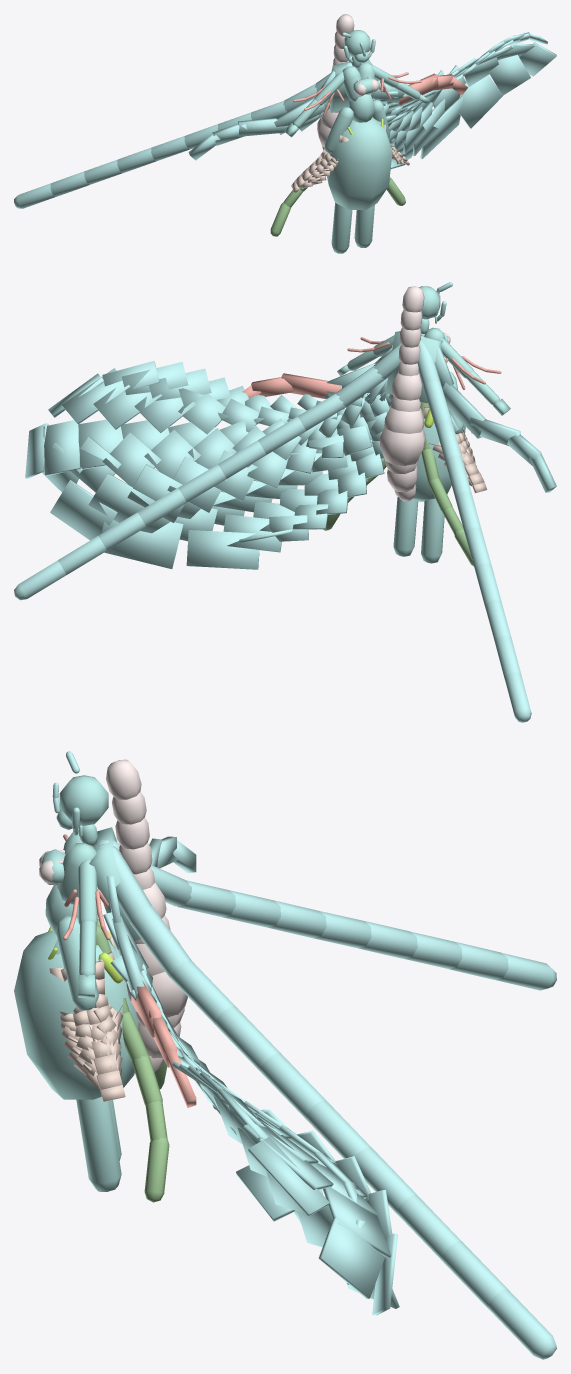
Rendered from Kiana_RigidBodyWorld.fbx.
3 renders of one model, top to bottom at view 1: azimuth 30°, elevation 25°; view 2: azimuth 150°, elevation 25°; view 3: azimuth 270°, elevation 25°, orthographic. The views are drawn at different scales.
Parts seen in each view (by area): view 1: 04N_下半身5, 04I_披风_10_3, 04J_披风_10_4, 04H_披风_10_2, 00E_右ひざ, 00G_左ひざ, 04K_披风_10_5, 017_Bip242, 023_Bip5, 049_披风_9_2, 04X_Bip255, 000_上半身 (+22 smaller); view 2: 04G_披风_10_1, 04H_披风_10_2, 04I_披风_10_3, 04C_披风_9_5, 04A_披风_9_3, 043_披风_8_4, 00P_辫子_8_1, 044_披风_8_5, 048_披风_9_1, 045_披风_8_6, 03V_披风_7_4, 00E_右ひざ (+57 smaller); view 3: 04N_下半身5, 00G_左ひざ, 04K_披风_10_5, 057_Bip266, 04L_披风_10_6, 04Z_Bip258, 056_Bip265, 052_Bip261, 051_Bip260, 055_Bip264, 00A_頭_1, 050_Bip259 (+32 smaller).
Boxes of the visible parts, x1,y1,x2,y2 form: 04N_下半身5: [327, 121, 392, 209]; 04I_披风_10_3: [459, 75, 502, 128]; 04J_披风_10_4: [489, 55, 530, 95]; 04H_披风_10_2: [420, 96, 463, 159]; 00E_右ひざ: [331, 203, 352, 253]; 00G_左ひざ: [354, 205, 374, 247]; 04K_披风_10_5: [519, 42, 556, 76]; 017_Bip242: [238, 118, 288, 136]; 023_Bip5: [324, 107, 353, 153]; 049_披风_9_2: [412, 98, 445, 155]; 04X_Bip255: [14, 183, 54, 208]; 000_上半身: [349, 94, 374, 122]; 04G_披风_10_1: [186, 530, 259, 569]; 04H_披风_10_2: [101, 520, 183, 568]; 04I_披风_10_3: [50, 480, 117, 540]; 04C_披风_9_5: [43, 420, 80, 475]; 04A_披风_9_3: [88, 473, 155, 522]; 043_披风_8_4: [102, 432, 161, 486]; 00P_辫子_8_1: [380, 428, 425, 465]; 044_披风_8_5: [78, 419, 123, 469]; 048_披风_9_1: [223, 514, 281, 552]; 045_披风_8_6: [93, 388, 161, 429]; 03V_披风_7_4: [144, 429, 200, 478]; 00E_右ひざ: [421, 498, 444, 563]; 04N_下半身5: [14, 931, 138, 1099]; 00G_左ひざ: [76, 1097, 121, 1191]; 04K_披风_10_5: [318, 1216, 384, 1298]; 057_Bip266: [488, 1289, 556, 1359]; 04L_披风_10_6: [248, 1136, 329, 1216]; 04Z_Bip258: [130, 905, 191, 978]; 056_Bip265: [442, 1241, 507, 1309]; 052_Bip261: [260, 1052, 325, 1119]; 051_Bip260: [215, 1006, 279, 1072]; 055_Bip264: [397, 1194, 460, 1260]; 00A_頭_1: [59, 775, 108, 825]; 050_Bip259: [170, 959, 234, 1025].
Size of the model in its own units: 338 by 183 by 156.
